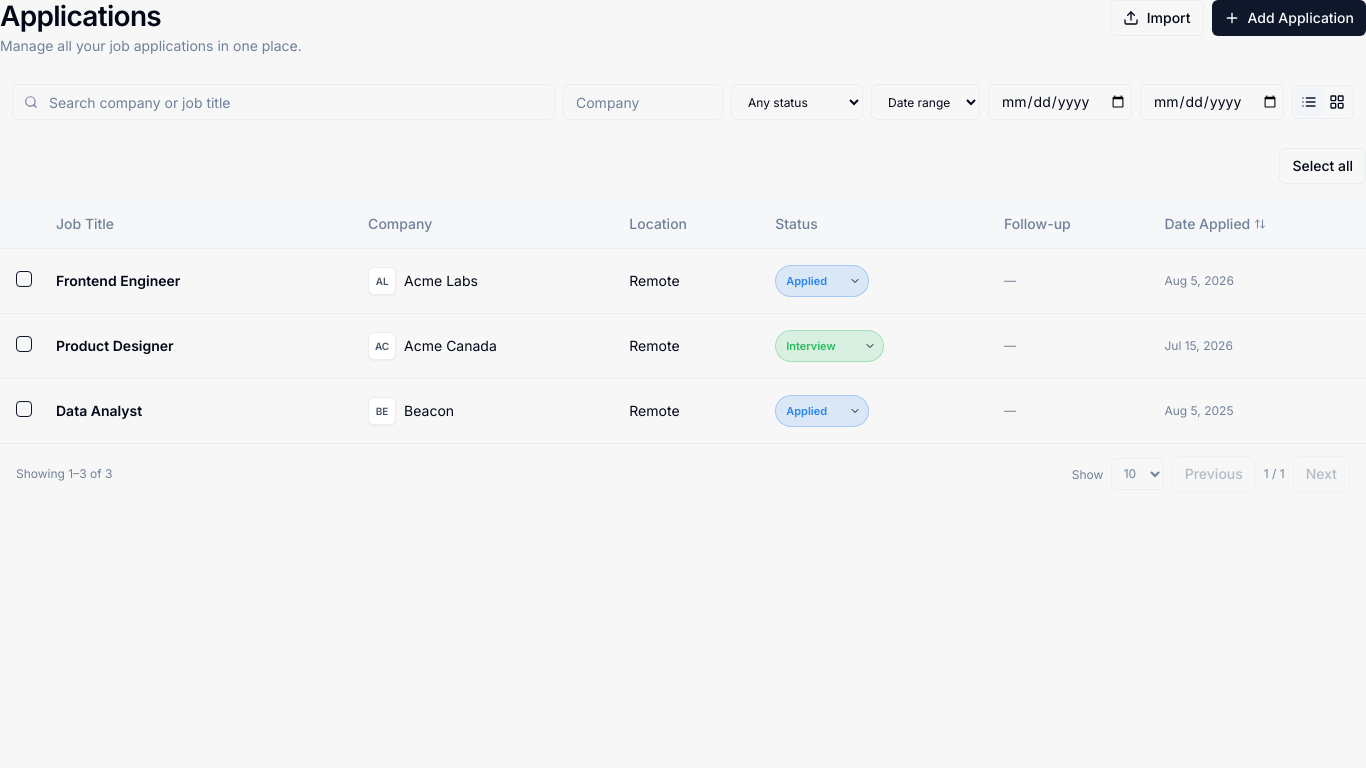
Test case: ApplicationsList › selects and deletes only the currently filtered applications after confirmation
This screenshot has width=1366, height=768.
Step 1. Type "acme" into the field named "Company name" → (643, 102), box 563,84 -> 723,120
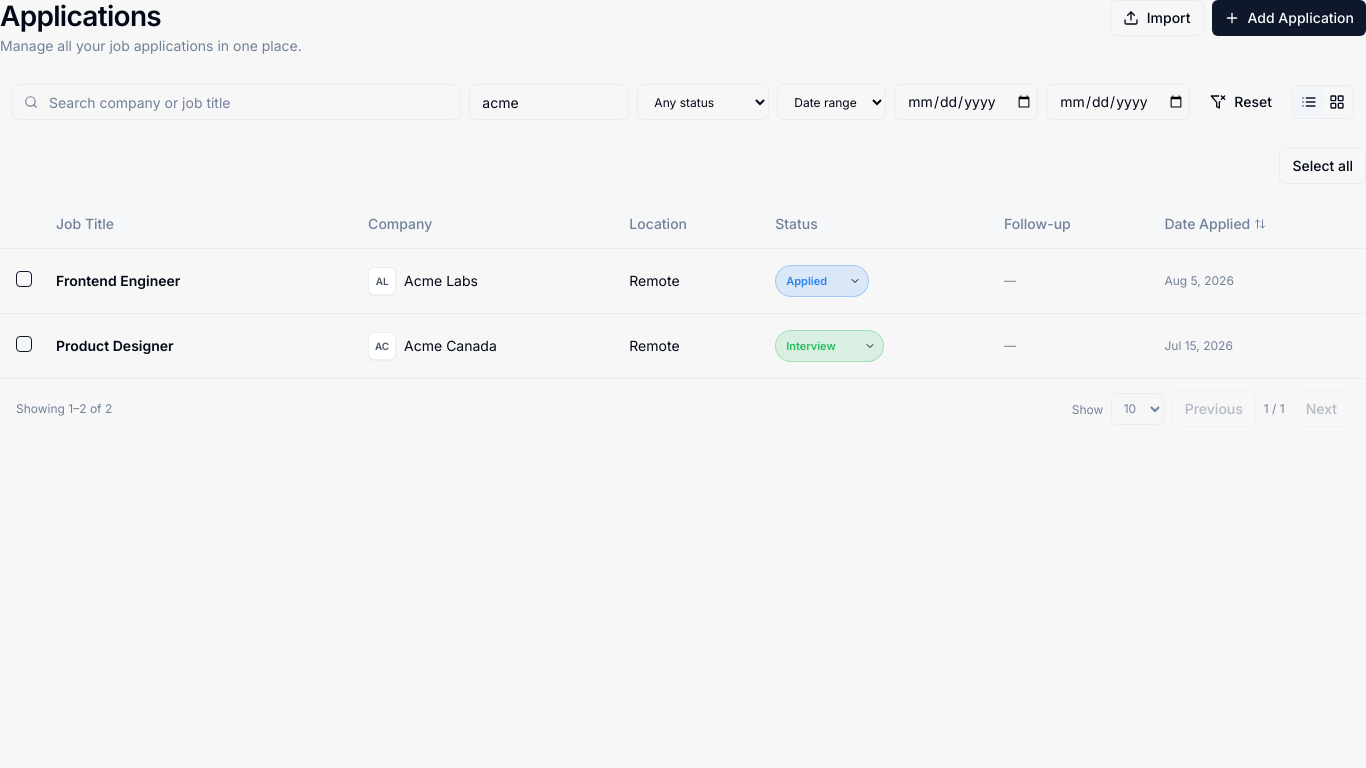
Step 2. Click the button "Select all" → (1323, 166), box 1279,148 -> 1365,184
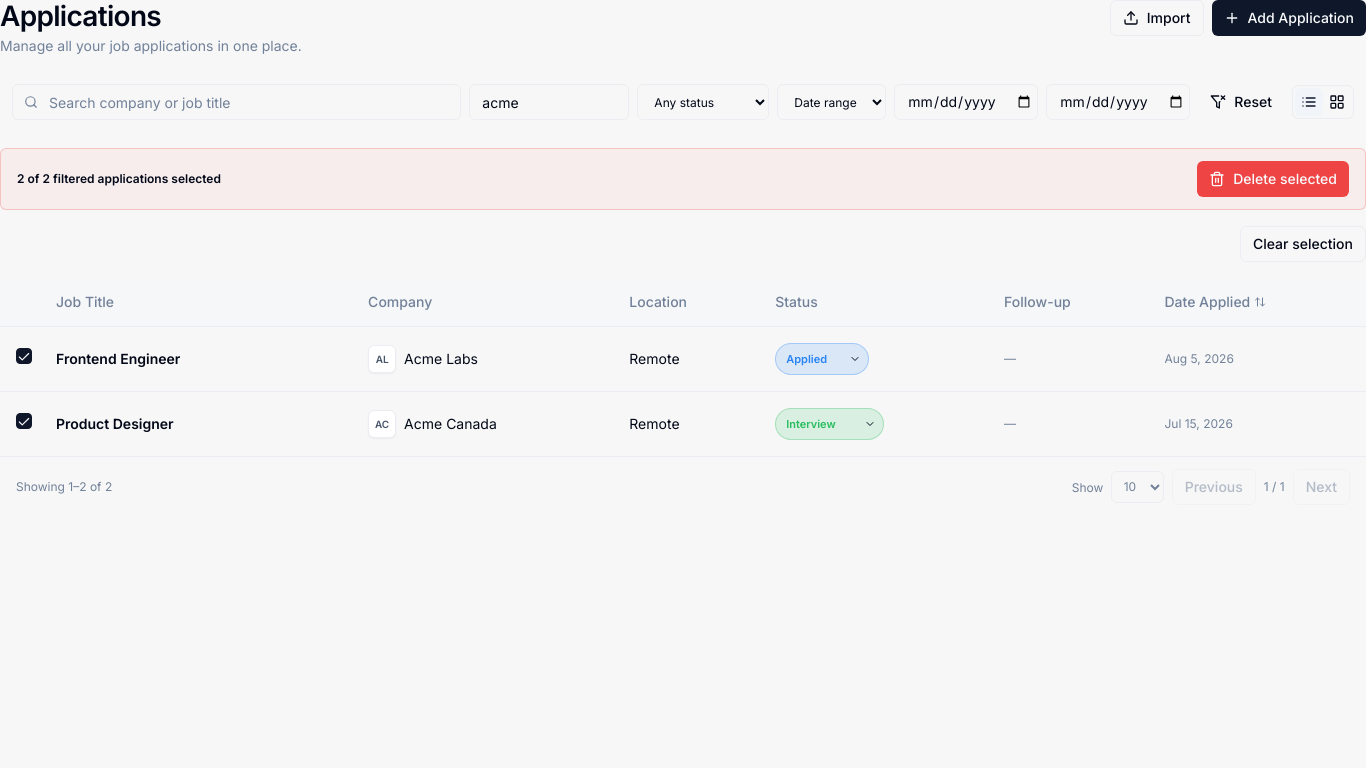
Result: the text "2 of 2 filtered applications selected" is shown at 17,171 -> 221,187
Step 3. Click the button "Delete selected" → (1273, 179), box 1197,161 -> 1349,197
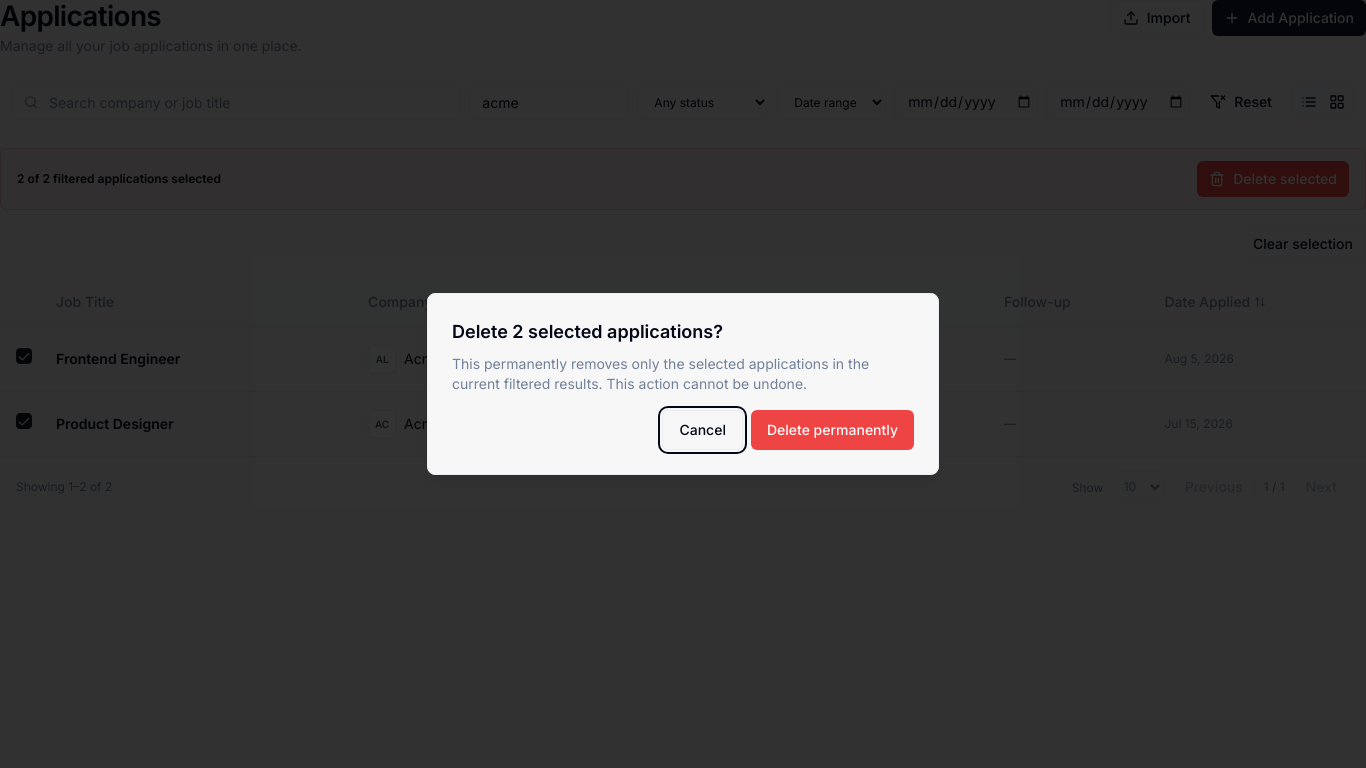
Result: the text "This permanently removes only the selected applications" is shown at 452,355 -> 869,392
Step 4. Click the button "Delete permanently" → (832, 430), box 751,410 -> 914,450
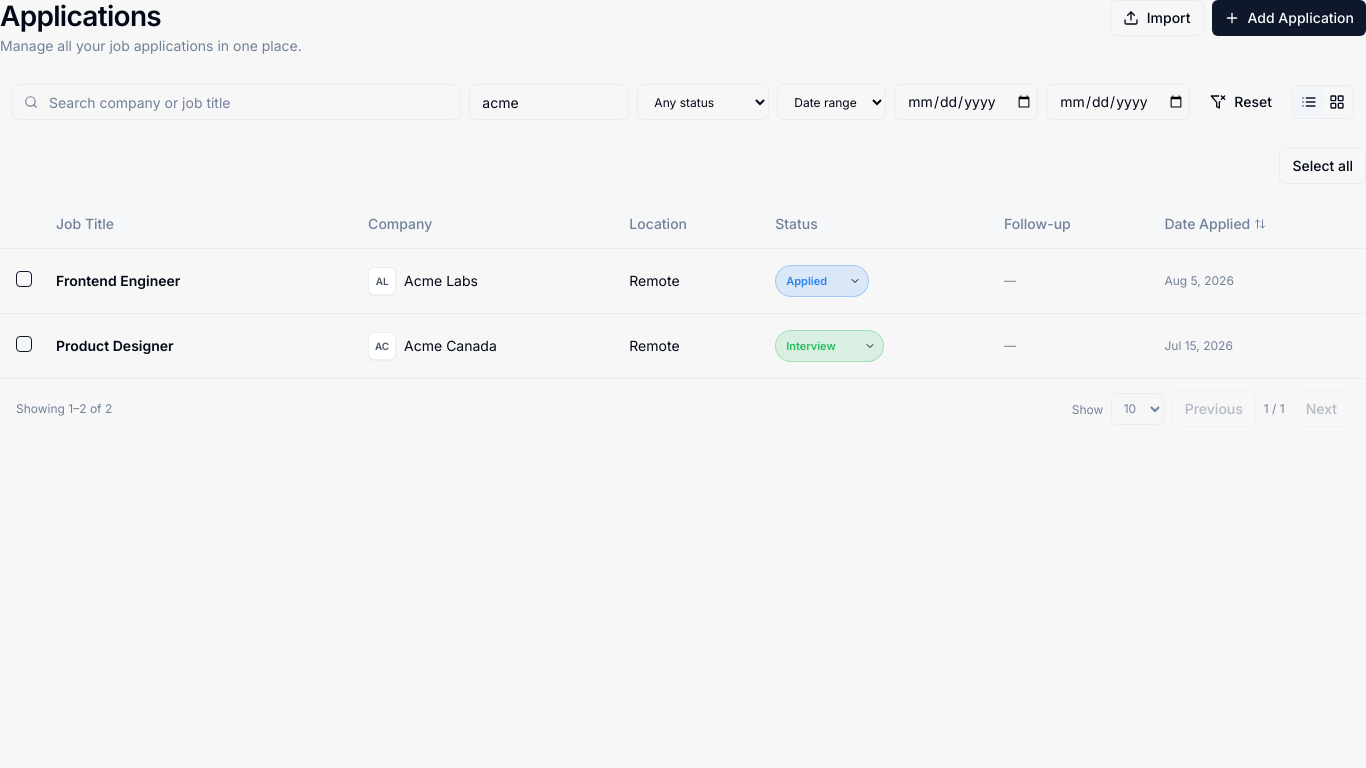
Result: the text "filtered applications selected" is gone
